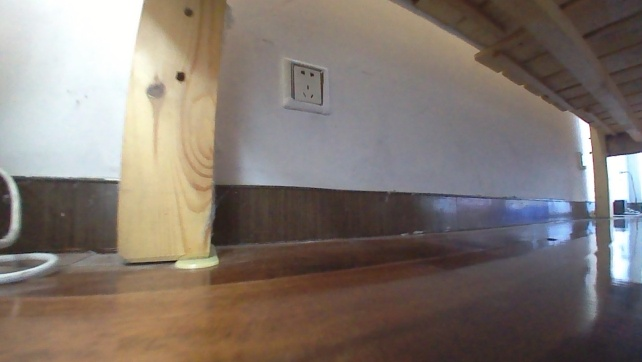wire: (0, 162, 62, 292)
